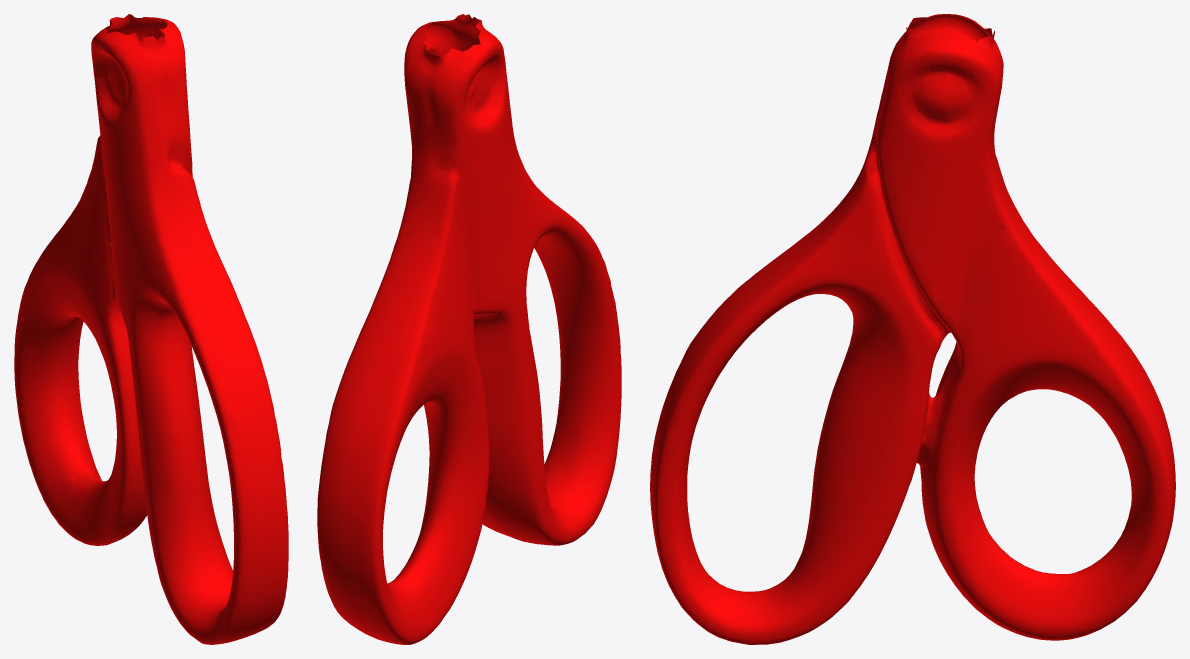
Rendered from scissorsupy_rings.fbx.
3 renders of one model, left to right at view 1: azimuth 30°, elevation 25°; view 2: azimuth 150°, elevation 25°; view 3: azimuth 270°, elevation 25°, orthographic. The views are drawn at different scales.
Visible parts, largest first — view 1: Node_0000001242CAE7F0.001_meshId1_name.002; view 2: Node_0000001242CAE7F0.001_meshId1_name.002; view 3: Node_0000001242CAE7F0.001_meshId1_name.002.
Part boxes in pixels (x1,y1,x2,y2): Node_0000001242CAE7F0.001_meshId1_name.002: (14, 14, 288, 644); Node_0000001242CAE7F0.001_meshId1_name.002: (317, 14, 621, 644); Node_0000001242CAE7F0.001_meshId1_name.002: (650, 14, 1175, 644).
Size of the model in its own units: 1.58 by 11.3 by 8.77.
